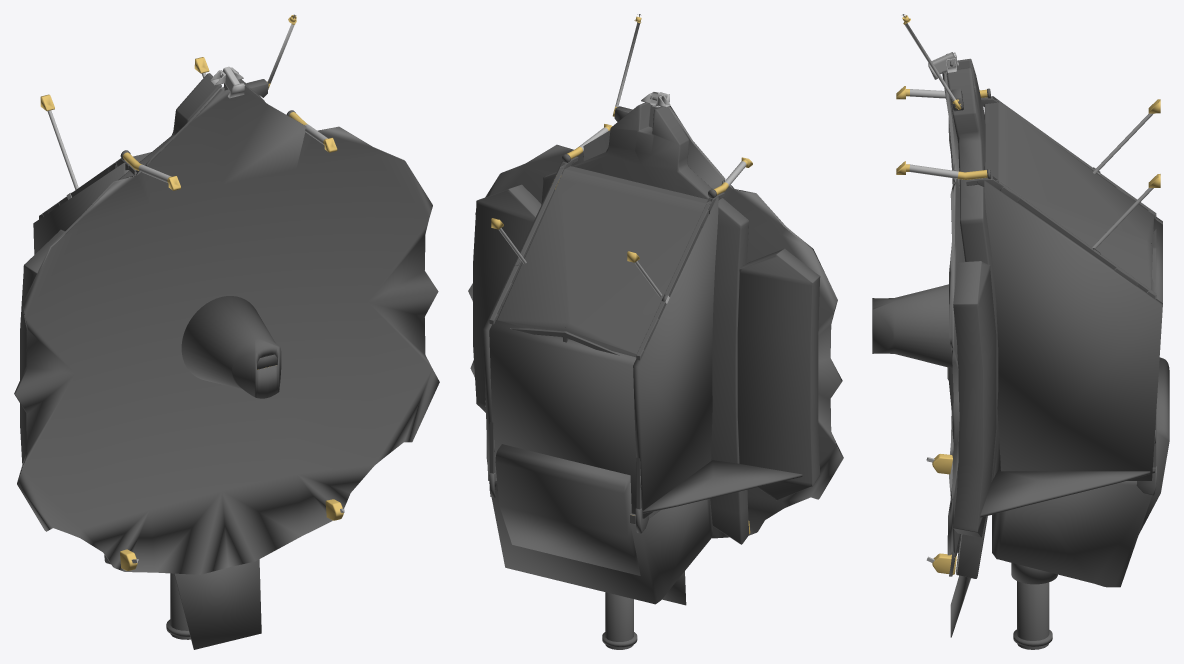
The picture shows the model from 3 angles, left to right: view 1: azimuth 30°, elevation 25°; view 2: azimuth 150°, elevation 25°; view 3: azimuth 270°, elevation 25°; orthographic projection. The views are drawn at different scales.
Parts seen in each view (by area): view 1: Backplane; view 2: Backplane; view 3: Backplane.
Boxes of the visible parts, x1,y1,x2,y2 form: Backplane: (14,14,439,649); Backplane: (468,14,843,649); Backplane: (872,14,1169,649).
Bounding box in the file's own units: 6.23 × 9.23 × 3.82.
